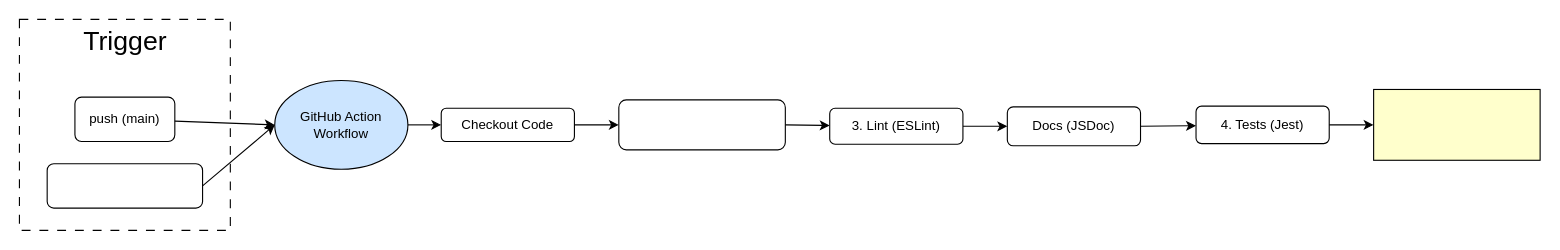
This 1560x250 diagram has some shape labels left out. The centre of each missing label's shape, as x and y in pixels:
2. Install Node 20 & fetch dependencies: point 701,124
PR (feature → main): point 124,185
Result (status badge / PR Check): point 1456,124
